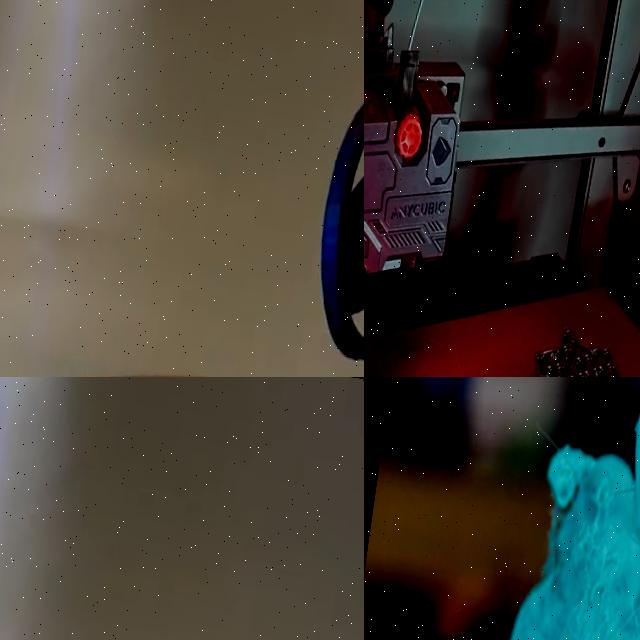spaghetti: (505, 414, 640, 640)
